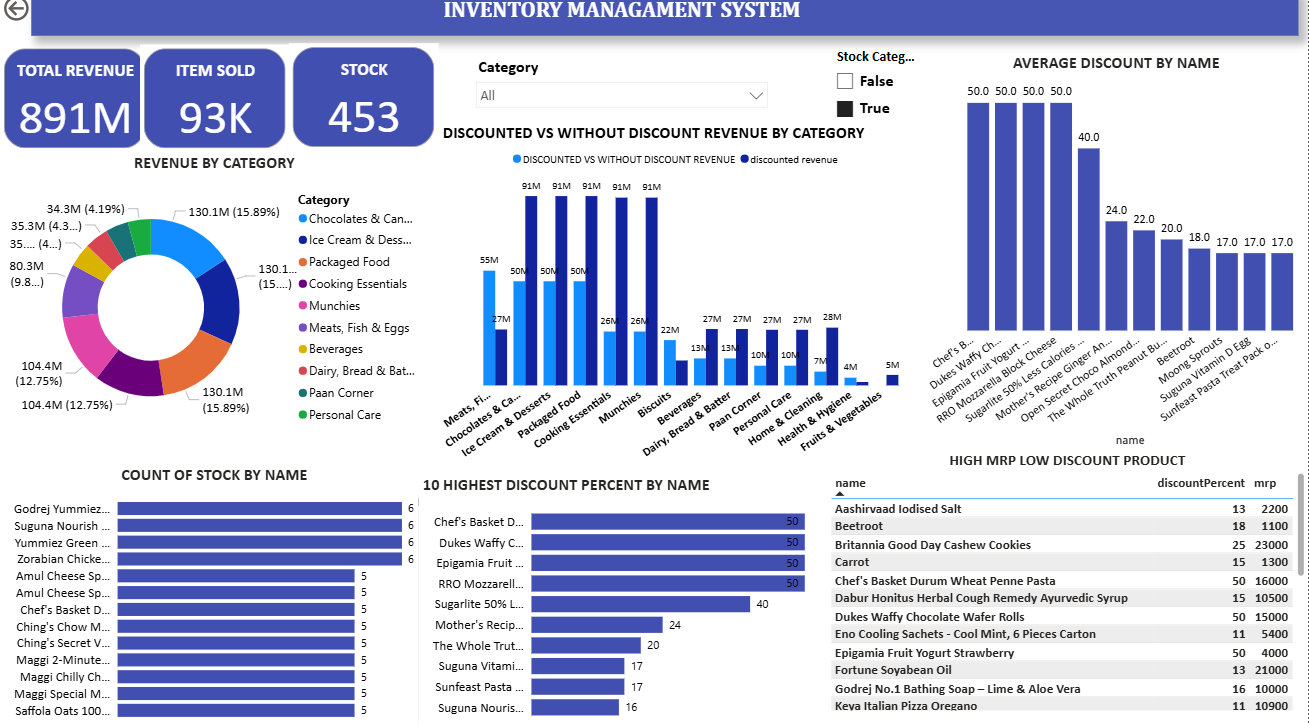

Layout of this report page (visuals, bound fields, positions):
{"tool":"powerbi","page":{"name":"Page 1","canvas":[1600,900],"ordinal":0},"visuals":[{"type":"slicer","fields":{"Values":["Sheet1.outOfStock"]},"box":[1010.4,62.7,154.4,107],"z":0},{"type":"slicer","fields":{"Values":["Sheet1.Category"]},"box":[571.7,73.4,377.5,85.6],"z":1000},{"type":"actionButton","box":[0,0,100,40],"z":2000},{"type":"columnChart","title":"AVERAGE DISCOUNT BY NAME","fields":{"Category":["Sheet1.name"],"Y":["Avg(Sheet1.discountPercent)"]},"box":[1129.6,73.4,470.8,487.6],"z":3000},{"type":"donutChart","title":"REVENUE BY CATEGORY","fields":{"Category":["Sheet1.Category"],"Y":["Sheet1.total revenue"]},"box":[0,195.7,524.3,356.1],"z":4000},{"type":"cardVisual","fields":{"Data":["Sheet1.total revenue"]},"box":[0,64.2,183.4,133],"z":5000},{"type":"barChart","title":"COUNT OF STOCK BY NAME","fields":{"Category":["Sheet1.name"],"Y":["CountNonNull(Sheet1.outOfStock)"]},"box":[0,577.8,524.3,322.5],"z":6000},{"type":"tableEx","title":"HIGH MRP LOW DISCOUNT PRODUCT","fields":{"Values":["Sheet1.name","Sheet1.discountPercent","Sheet1.mrp"]},"box":[1010.4,561,590,322.5],"z":7000},{"type":"barChart","title":"10 HIGHEST DISCOUNT PERCENT BY NAME","fields":{"Category":["Sheet1.name"],"Y":["Max(Sheet1.discountPercent)"]},"box":[512.1,590,498.3,310.3],"z":8000},{"type":"textbox","box":[38.2,0,1549.9,53.5],"z":9000},{"type":"cardVisual","fields":{"Data":["Sum(Sheet1.quantity)"]},"box":[171.2,64.2,183.4,133],"z":10000},{"type":"cardVisual","fields":{"Data":["CountNonNull(Sheet1.outOfStock)"]},"box":[353.1,62.7,183.4,133],"z":11000},{"type":"clusteredColumnChart","title":"DISCOUNTED VS WITHOUT DISCOUNT REVENUE BY CATEGORY","fields":{"Category":["Sheet1.Category"],"Y":["Sheet1.without discount revenue","Sheet1.discounted revenue"]},"box":[536.5,159,582.4,431],"z":11003}]}

Visuals, with their boxes in screenshot pixels (x1, y1, x2, y2), scaled from the page's 1600x900 canvas onto the 1309x724 screenshot:
slicer - Sheet1.outOfStock: {"left": 827, "top": 50, "right": 953, "bottom": 137}
slicer - Sheet1.Category: {"left": 468, "top": 59, "right": 777, "bottom": 128}
actionButton: {"left": 0, "top": 0, "right": 82, "bottom": 32}
"AVERAGE DISCOUNT BY NAME" columnChart: {"left": 924, "top": 59, "right": 1308, "bottom": 451}
"REVENUE BY CATEGORY" donutChart: {"left": 0, "top": 157, "right": 429, "bottom": 444}
cardVisual - Sheet1.total revenue: {"left": 0, "top": 52, "right": 150, "bottom": 159}
"COUNT OF STOCK BY NAME" barChart: {"left": 0, "top": 465, "right": 429, "bottom": 723}
"HIGH MRP LOW DISCOUNT PRODUCT" tableEx: {"left": 827, "top": 451, "right": 1308, "bottom": 711}
"10 HIGHEST DISCOUNT PERCENT BY NAME" barChart: {"left": 419, "top": 475, "right": 827, "bottom": 723}
textbox: {"left": 31, "top": 0, "right": 1299, "bottom": 43}
cardVisual - Sum(Sheet1.quantity): {"left": 140, "top": 52, "right": 290, "bottom": 159}
cardVisual - CountNonNull(Sheet1.outOfStock): {"left": 289, "top": 50, "right": 439, "bottom": 157}
"DISCOUNTED VS WITHOUT DISCOUNT REVENUE BY CATEGORY" clusteredColumnChart: {"left": 439, "top": 128, "right": 915, "bottom": 475}
